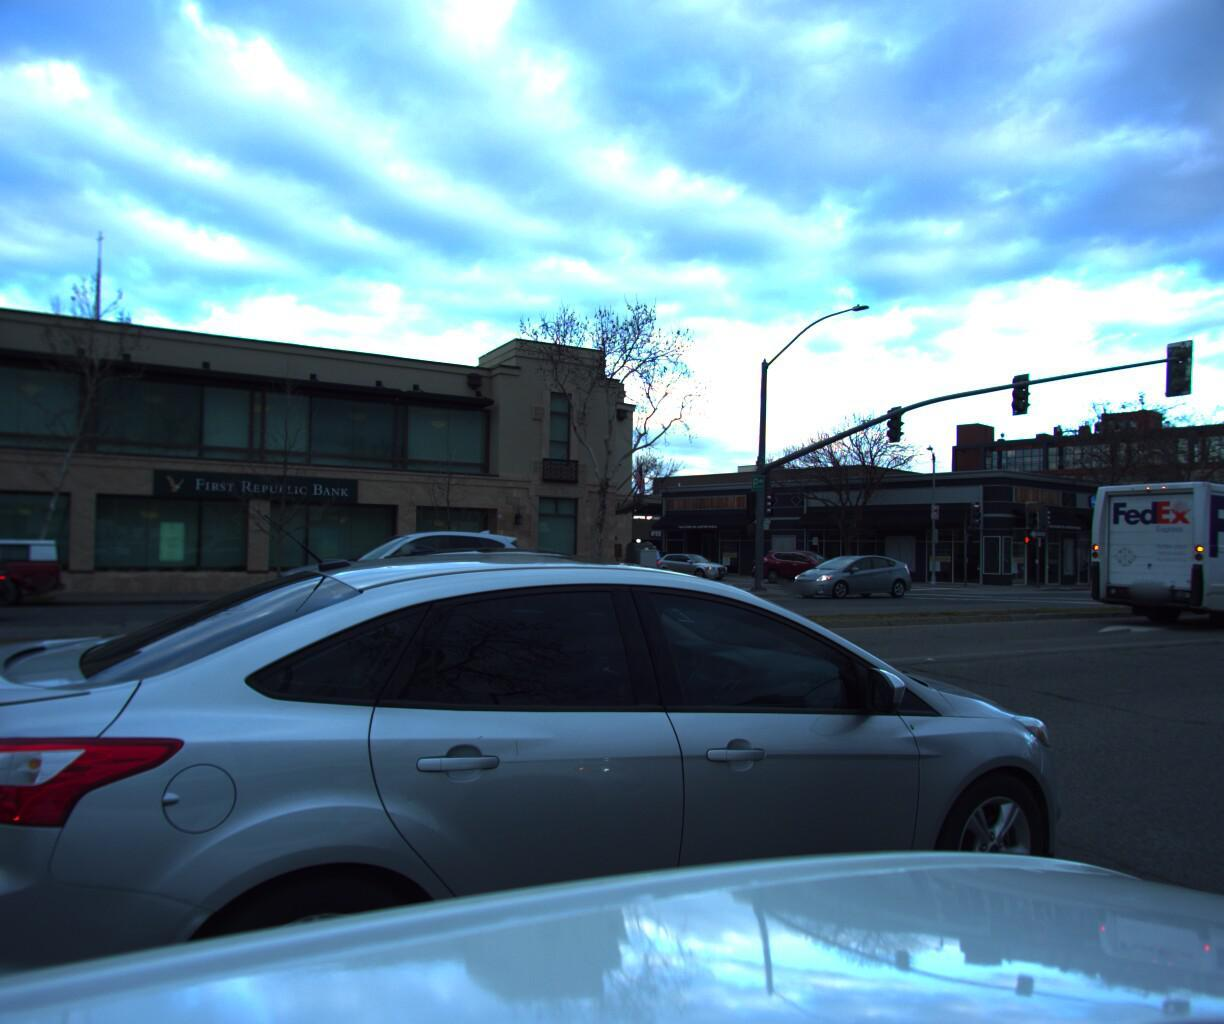car: (0, 544, 1140, 1024), (207, 536, 835, 787), (255, 530, 539, 634), (0, 533, 69, 623), (787, 551, 921, 596), (753, 541, 860, 585), (652, 547, 734, 578), (0, 534, 8, 641)
truck: (1078, 472, 1224, 629)
